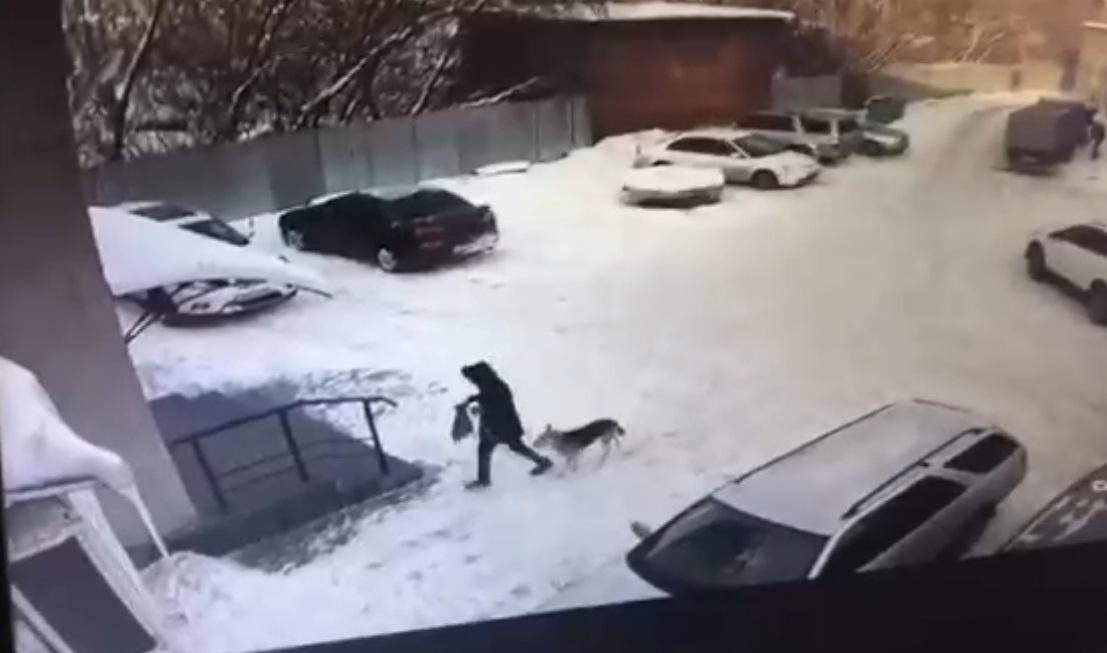dog_aggressive: (535, 415, 627, 474)
